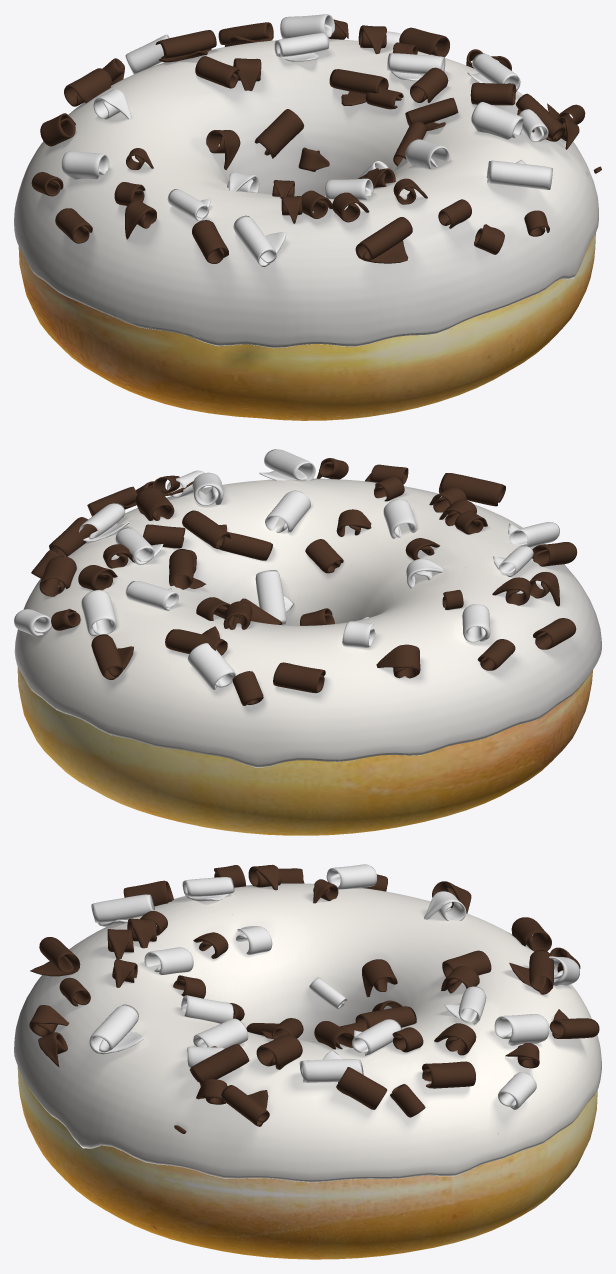
Rendered from white two in one curls.glb.
3 renders of one model, top to bottom at view 1: azimuth 30°, elevation 25°; view 2: azimuth 150°, elevation 25°; view 3: azimuth 270°, elevation 25°, orthographic. The views are drawn at different scales.
Visible parts, largest first — view 1: white, coffee.001, two in one curls, Torus; view 2: white, coffee.001, two in one curls, Torus; view 3: white, coffee.001, two in one curls, Torus.
Part boxes in pixels (x1,y1,x2,y2): white: (14, 39, 598, 348); coffee.001: (14, 39, 598, 347); two in one curls: (31, 14, 601, 267); Torus: (18, 233, 595, 420); white: (15, 479, 600, 767); coffee.001: (14, 478, 601, 767); two in one curls: (14, 449, 577, 705); Torus: (17, 666, 592, 835); white: (14, 883, 601, 1182); coffee.001: (14, 883, 601, 1181); two in one curls: (29, 864, 599, 1133); Torus: (17, 1066, 597, 1259).
Bounding box in the file's own units: 0.1989 × 0.0804 × 0.1972.
Materials: 5 (2 with a texture image).
